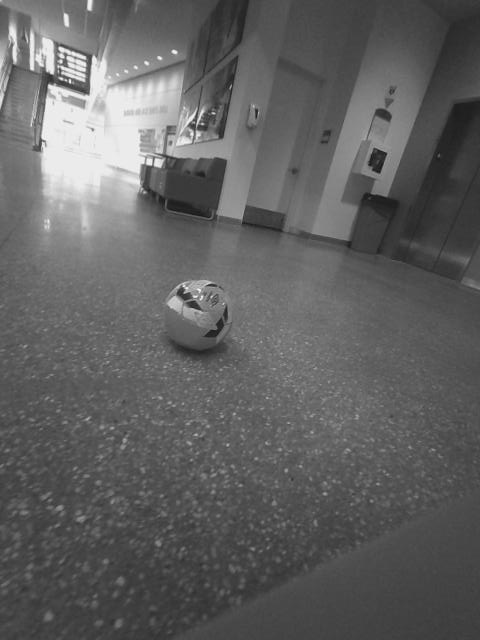ball: (163, 280, 234, 348)
